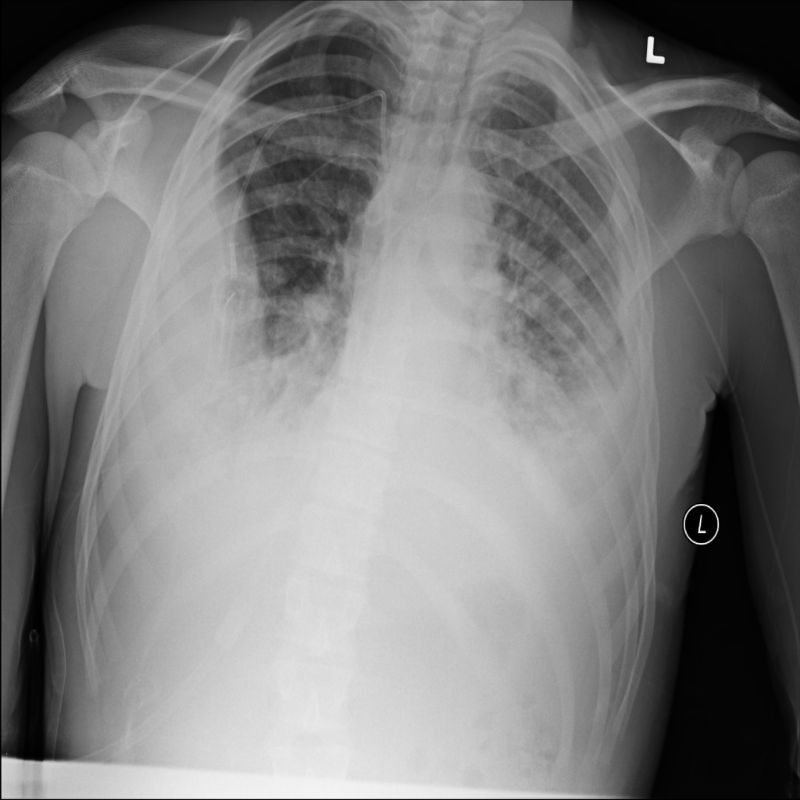Pleural Effusion: (118, 139, 276, 460), (503, 315, 655, 541)
